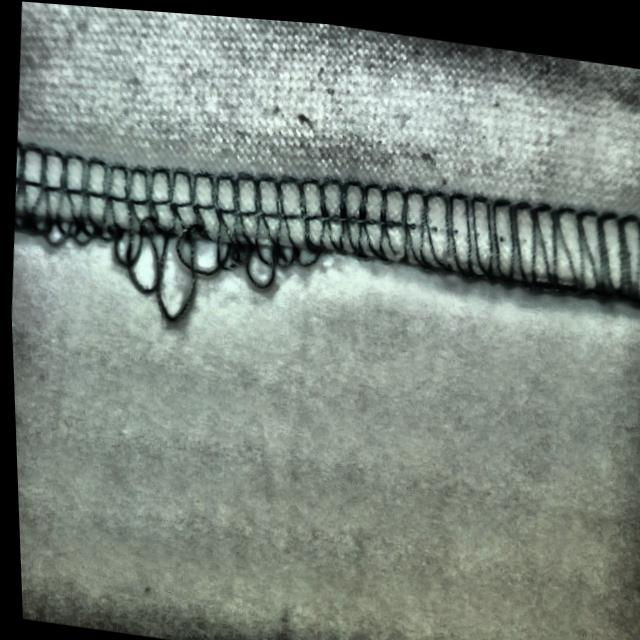Stitch: (4, 135, 327, 337)
